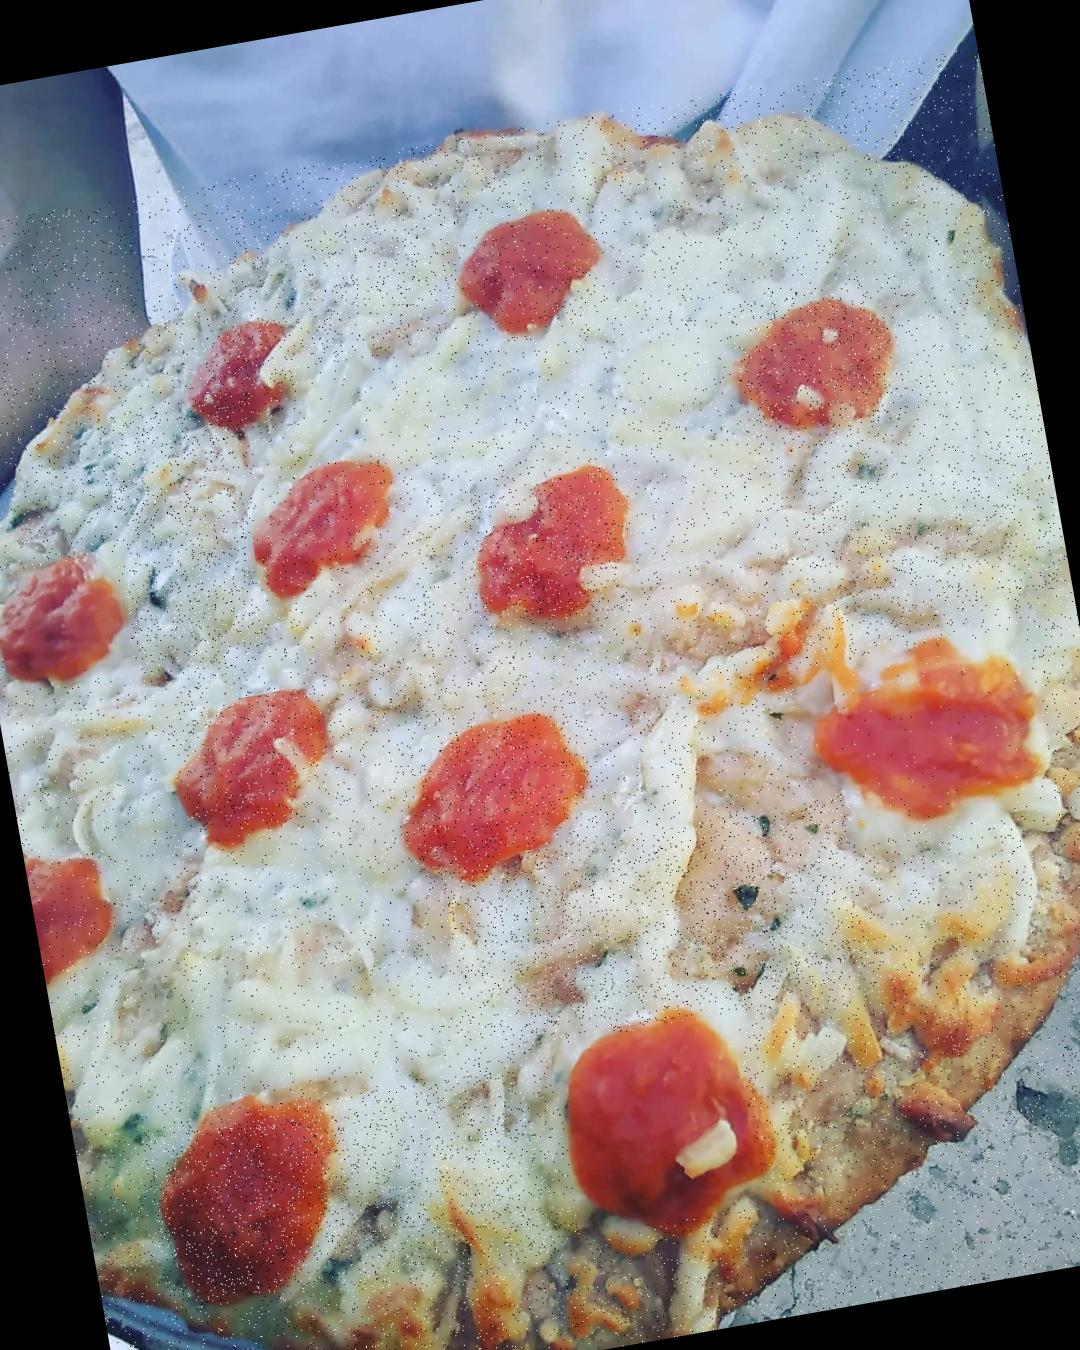Cheese: (440, 796, 875, 1056), (50, 875, 462, 1137), (777, 429, 1074, 646), (573, 126, 905, 316), (582, 307, 778, 612), (576, 594, 813, 841), (318, 1065, 557, 1288), (96, 391, 273, 684), (140, 800, 429, 942), (371, 331, 594, 496), (11, 695, 196, 868), (330, 581, 526, 742), (281, 213, 451, 359), (296, 355, 401, 464)
Pepperoni: (786, 628, 1057, 849), (551, 1013, 768, 1238), (139, 1088, 352, 1310), (708, 279, 907, 464), (390, 710, 603, 881), (454, 468, 647, 639), (164, 684, 342, 838), (439, 199, 614, 352), (244, 458, 412, 593), (0, 553, 136, 693), (23, 839, 132, 1000), (176, 316, 303, 430)
Pizza: (0, 46, 1080, 1350)
